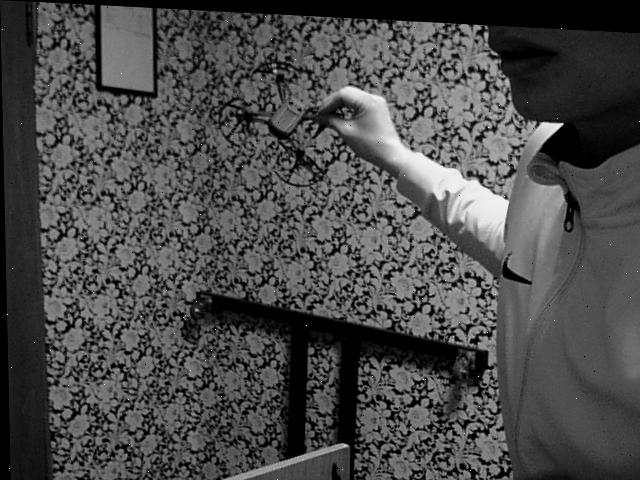drone: (205, 36, 378, 191)
